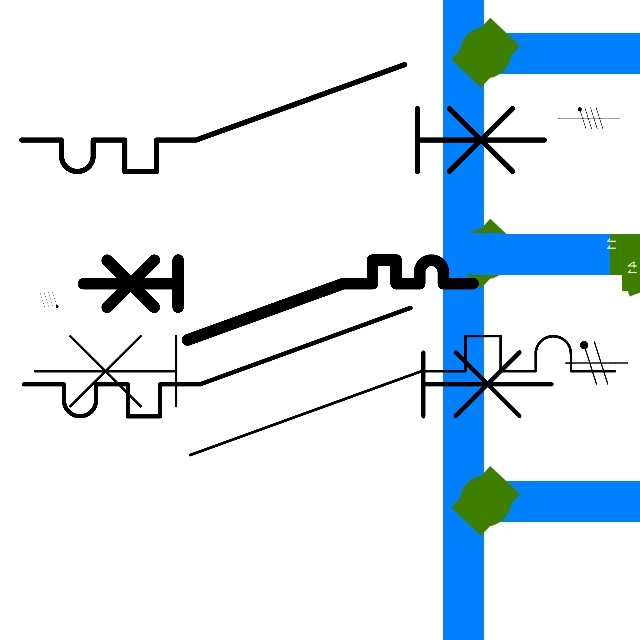interruptor_termomagnetico: (20, 321, 630, 470), (10, 294, 565, 430), (8, 51, 557, 185), (73, 250, 482, 350)
